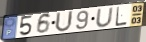5: (18, 14, 34, 37)
6: (35, 13, 53, 36)
9: (75, 9, 90, 30)
L: (115, 6, 128, 27)
U: (54, 10, 75, 33), (95, 7, 115, 28)
